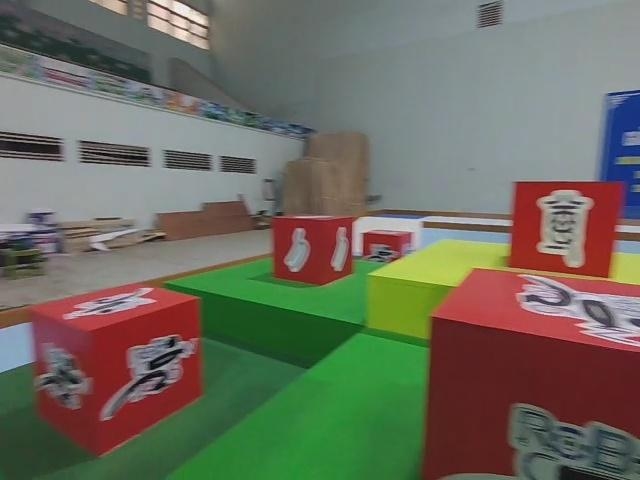R1: (421, 264, 640, 480), (27, 280, 206, 456), (361, 227, 414, 267)
R2 Fake: (505, 176, 626, 281)
R2 Real: (269, 212, 355, 287)
